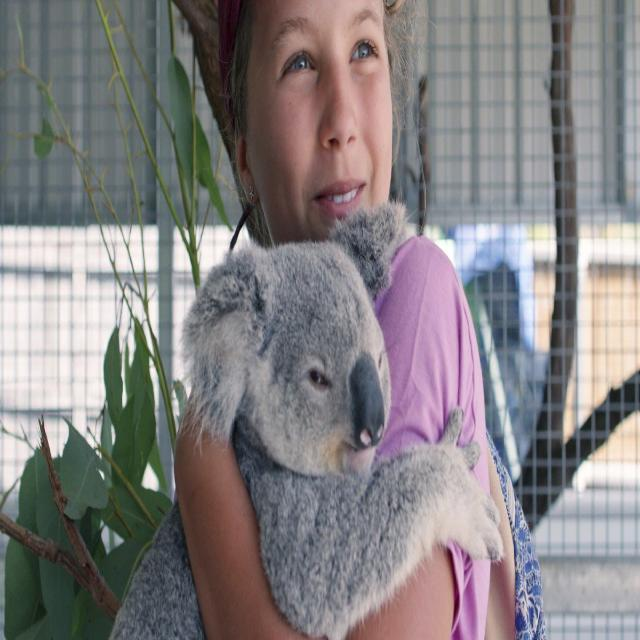Koala: (110, 201, 507, 640)
